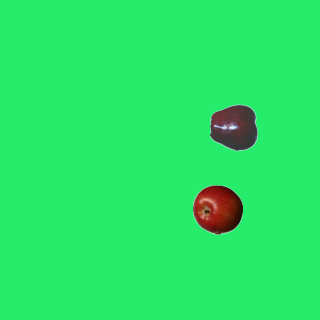Apple Braeburn: (192, 184, 242, 234)
Apple Red Delicious: (209, 102, 259, 152)
